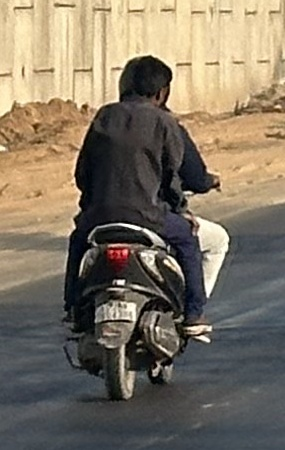BikeWithRider: (51, 47, 236, 405)
NoHelmet: (111, 49, 180, 115)
